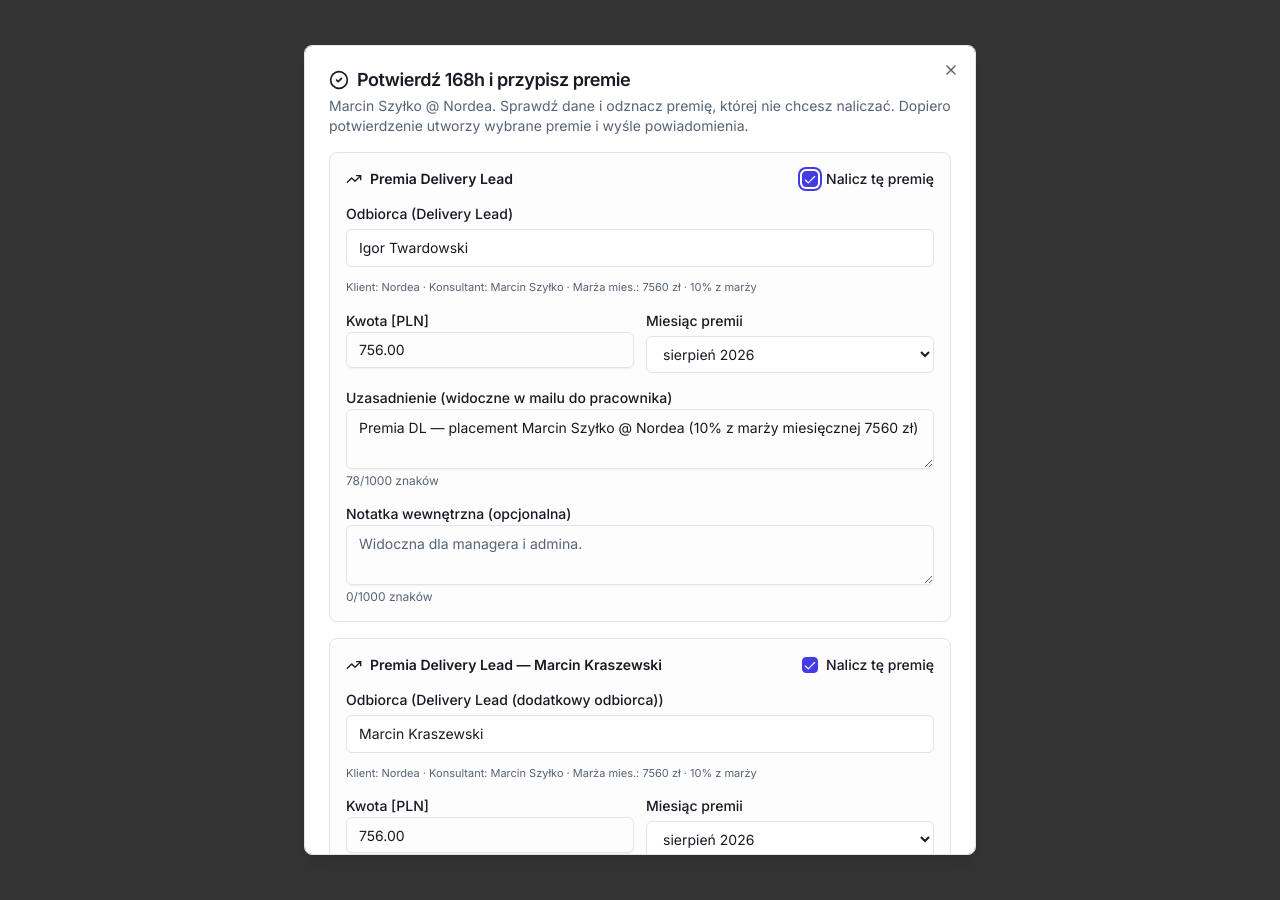
it: <PlacementConfirmDialog /> bonus selection › blocks an additional-DL placement when all three bonuses are unchecked
Click the checkbox named "Nalicz premię: Premia Delivery Lead". click: (810, 179)
box: top-left (802, 171), bottom-right (818, 187)
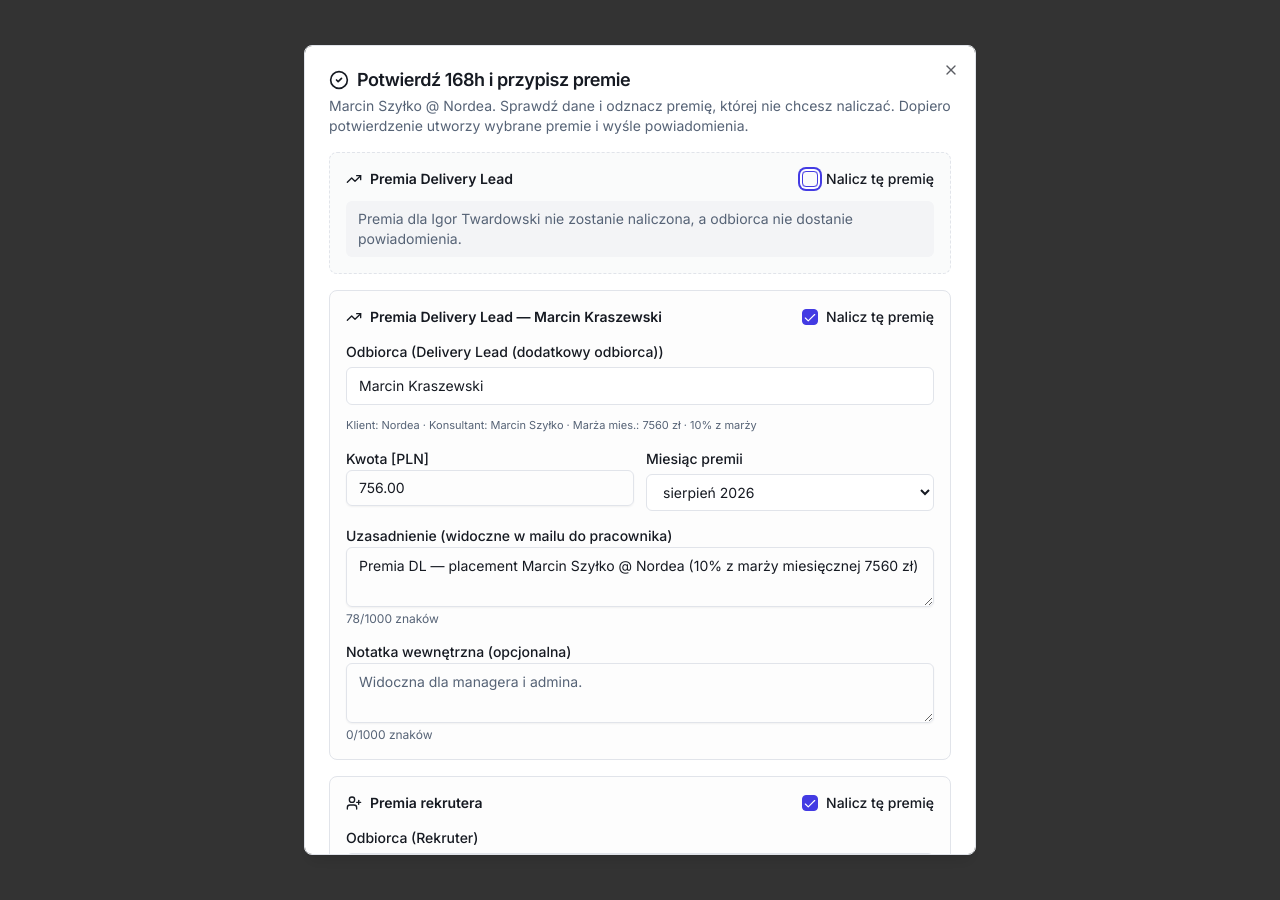
Click the checkbox named "Nalicz premię: Premia Delivery Lead — Marcin Kraszewski". click: (810, 317)
box: top-left (802, 309), bottom-right (818, 325)
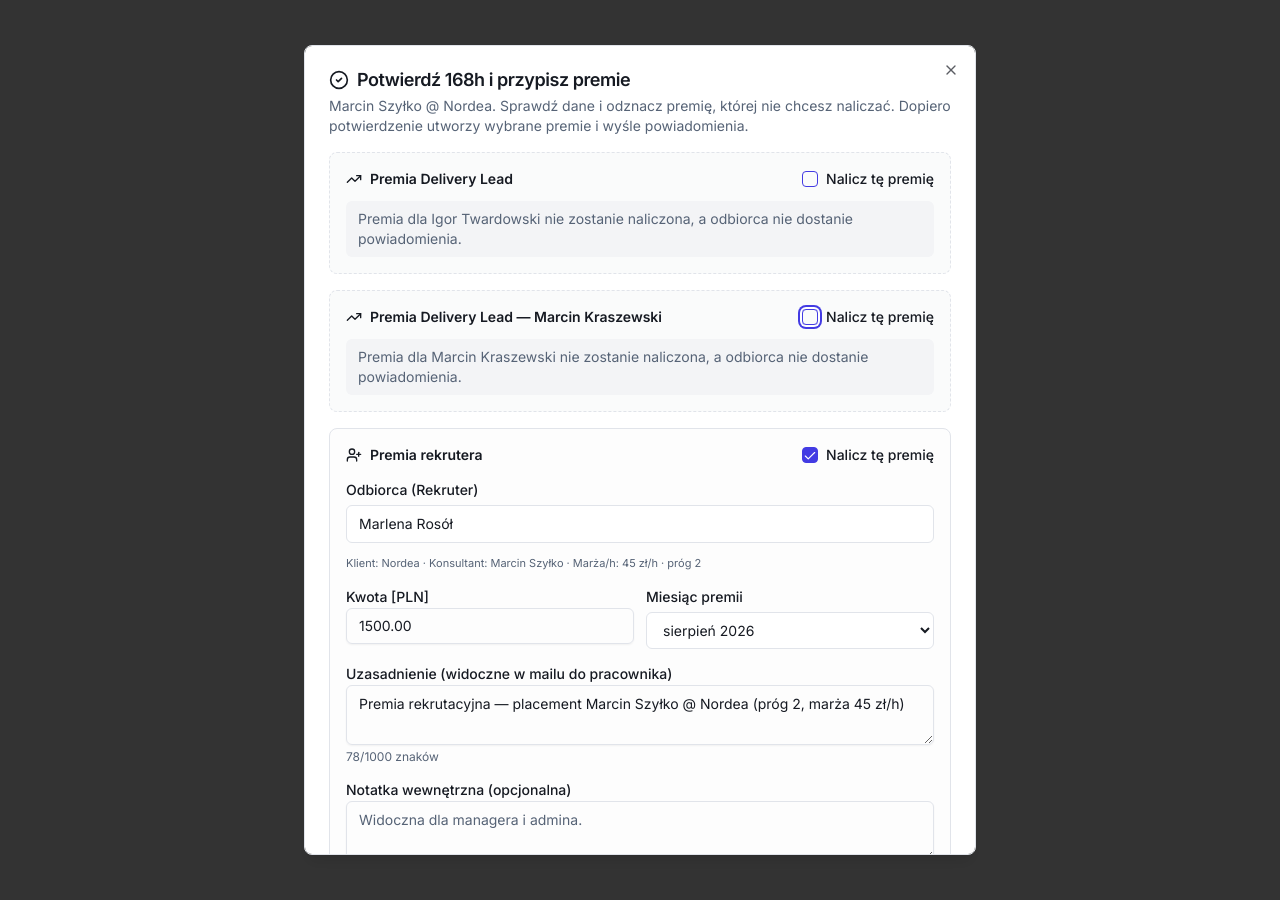
Click the checkbox named "Premia rekrutera". click: (810, 455)
box: top-left (802, 447), bottom-right (818, 463)
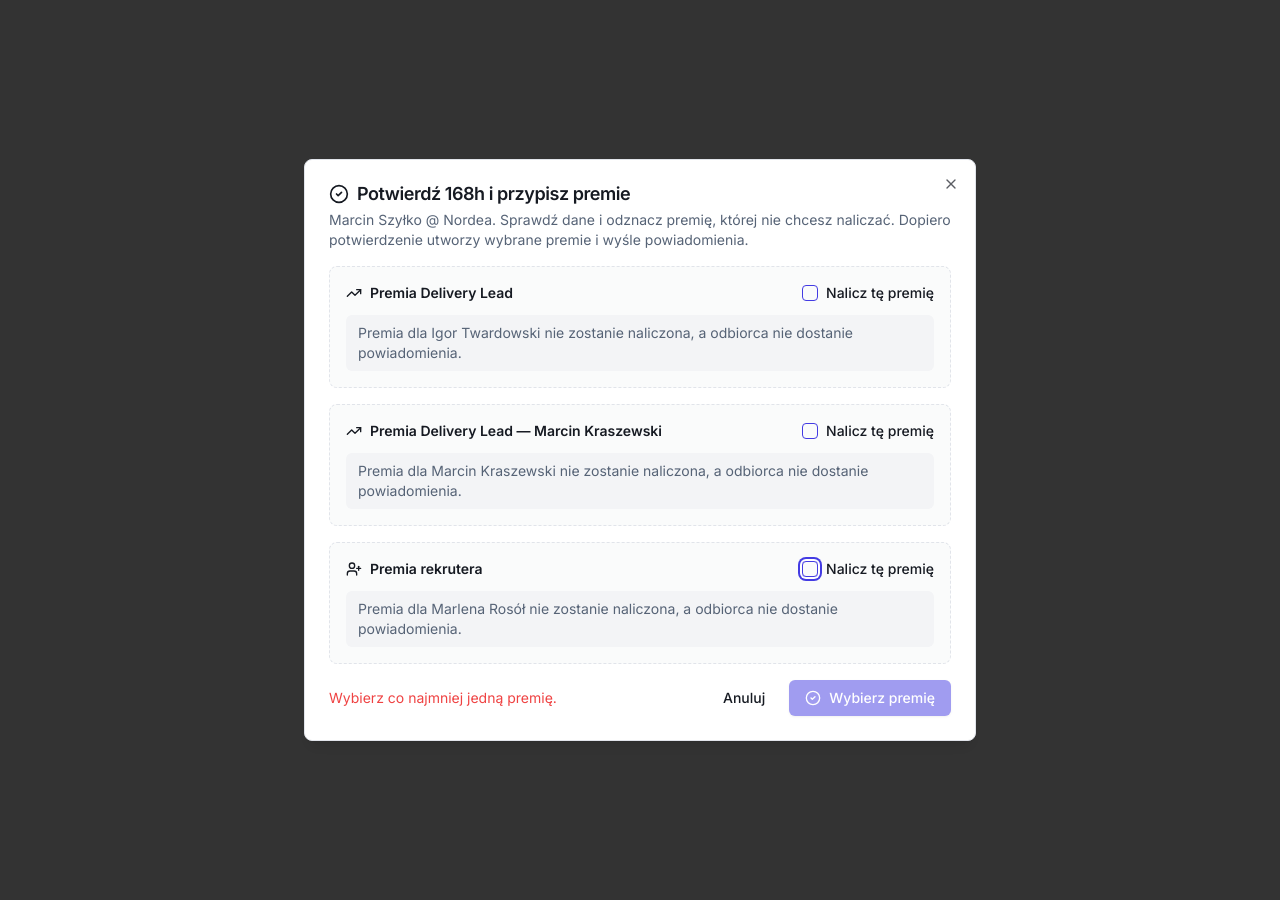
expect the message "Wybierz co najmniej jedną premię." is shown: met, box top-left (329, 688), bottom-right (557, 708)
expect the button "Wybierz premię" is disabled: met, box top-left (789, 680), bottom-right (951, 716)
